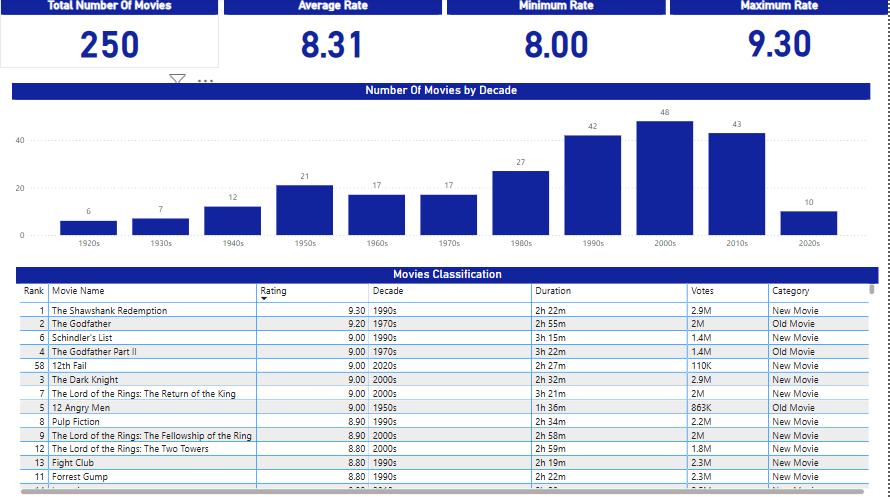

The dashboard page shown, as its layout file describes it:
{"tool":"powerbi","page":{"name":"Overview","canvas":[1280,720],"ordinal":0},"visuals":[{"type":"card","title":"Total Number Of Movies","fields":{"Values":["Top 250 Movies.# Movies"]},"box":[0,0,315.1,100.2],"z":0},{"type":"card","title":"Average Rate","fields":{"Values":["Top 250 Movies.Avg Rate"]},"box":[322,0,314.2,100.2],"z":1000},{"type":"card","title":"Minimum Rate","fields":{"Values":["Top 250 Movies.Min Rate"]},"box":[643,0,315.1,100.2],"z":2000},{"type":"card","title":"Maximum Rate","fields":{"Values":["Top 250 Movies.Max Rate"]},"box":[965,0,315,100],"z":3000},{"type":"columnChart","title":"Number Of Movies by Decade","fields":{"Y":["Top 250 Movies.# Movies"],"Category":["Top 250 Movies.Decade","Top 250 Movies.Year"]},"box":[17.5,122.6,1236.2,249],"z":4000},{"type":"tableEx","title":"Movies Classification ","fields":{"Values":["Top 250 Movies.Rank","Top 250 Movies.Movie Name","Top 250 Movies.Rating","Top 250 Movies.Decade","Top 250 Movies.Duration","Top 250 Movies.Votes","Top 250 Movies.Year (groups)"]},"box":[22.4,387.1,1242.1,332.6],"z":5000}]}

Visuals, with their boxes in screenshot pixels (x1, y1, x2, y2), scaled from the page's 1280x720 canvas onto the 890x497 screenshot:
"Total Number Of Movies" card: bbox=(0, 0, 219, 69)
"Average Rate" card: bbox=(224, 0, 442, 69)
"Minimum Rate" card: bbox=(447, 0, 666, 69)
"Maximum Rate" card: bbox=(671, 0, 889, 69)
"Number Of Movies by Decade" columnChart: bbox=(12, 85, 872, 257)
"Movies Classification " tableEx: bbox=(16, 267, 879, 496)
